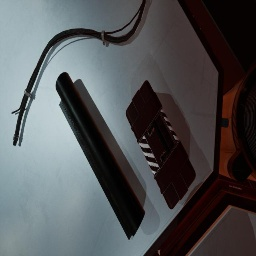FirstAidBox ,: (126, 80, 196, 209)
